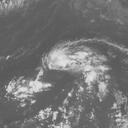cyclone: (42, 38, 127, 83)
